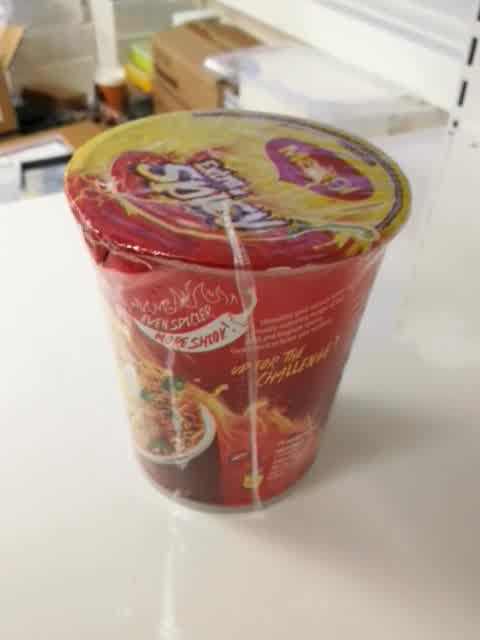maggi: (62, 108, 414, 518)
